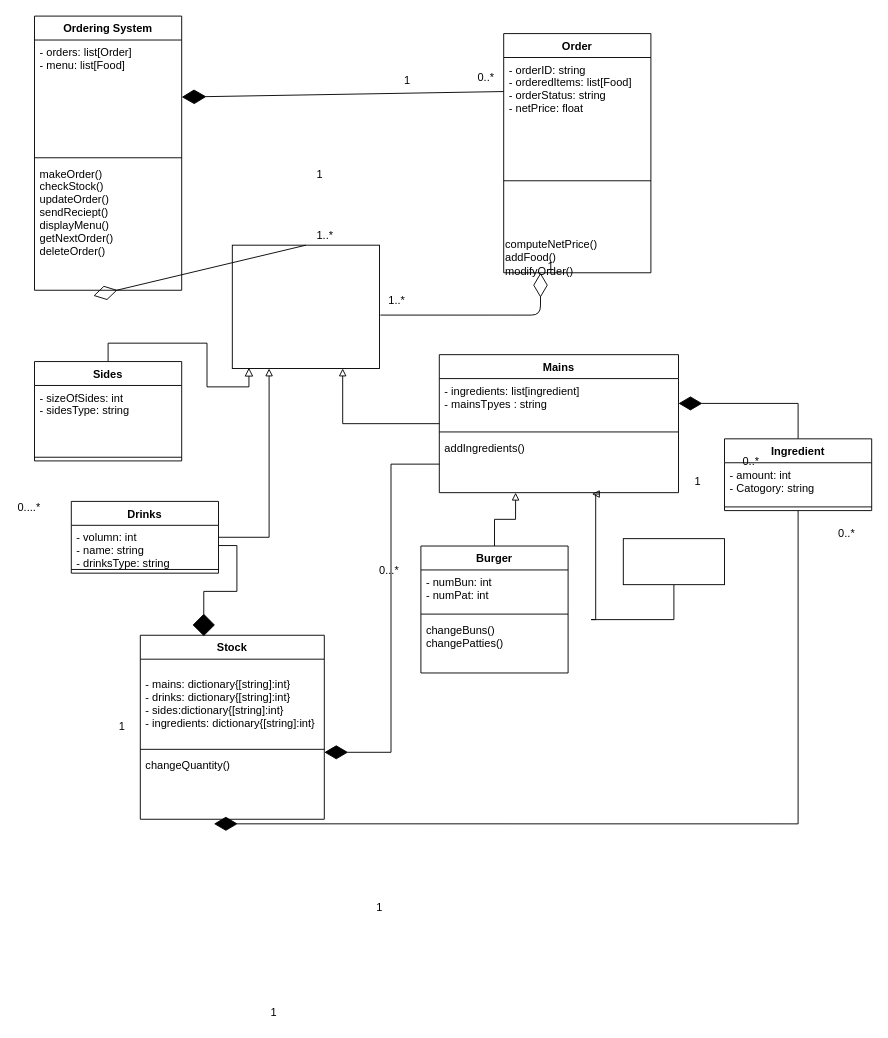
The diagram is 888 pixels wide and 1038 high, and some of its shapes have lost their labels. Each missing label, with the centre of its shape:
"Food - name: String - price: float computePrice()" belongs at pixel 305 306.
"Wrap" belongs at pixel 673 561.
